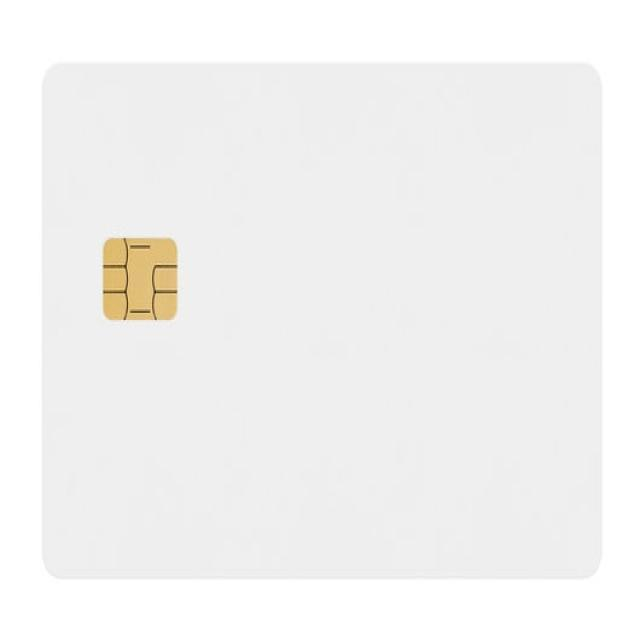payment_card: (40, 61, 603, 580)
